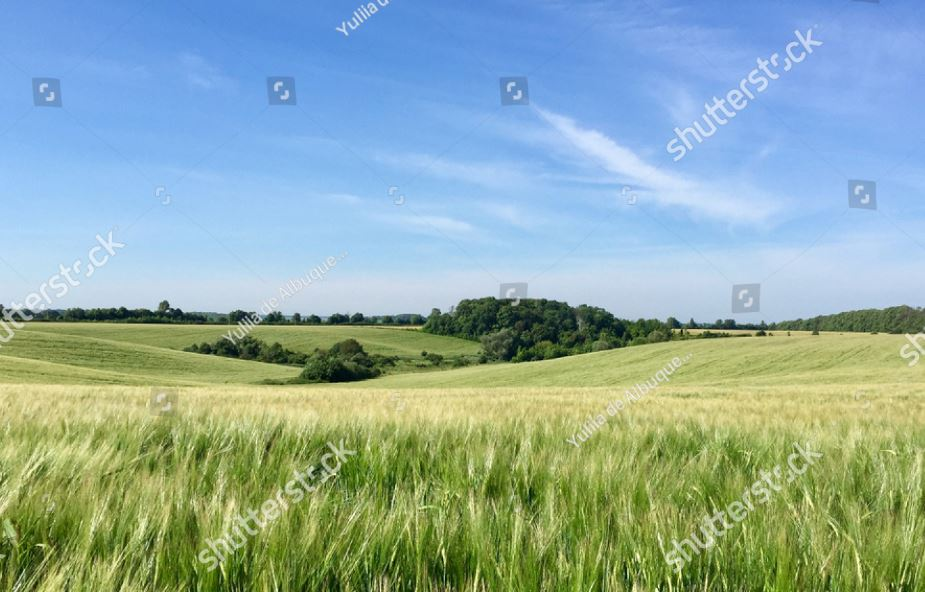Wheat: (57, 418, 562, 584)
